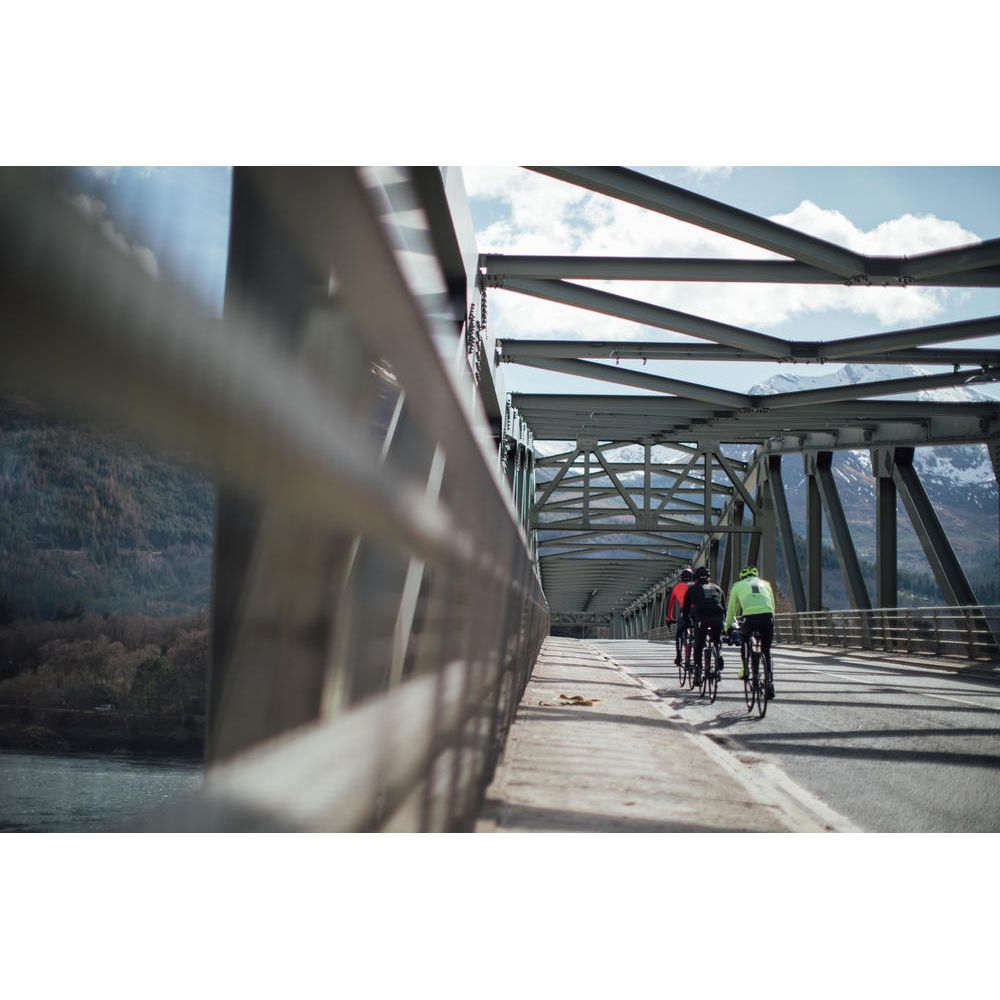RoadBike: (622, 511, 779, 797), (474, 502, 561, 638), (366, 494, 446, 624)
